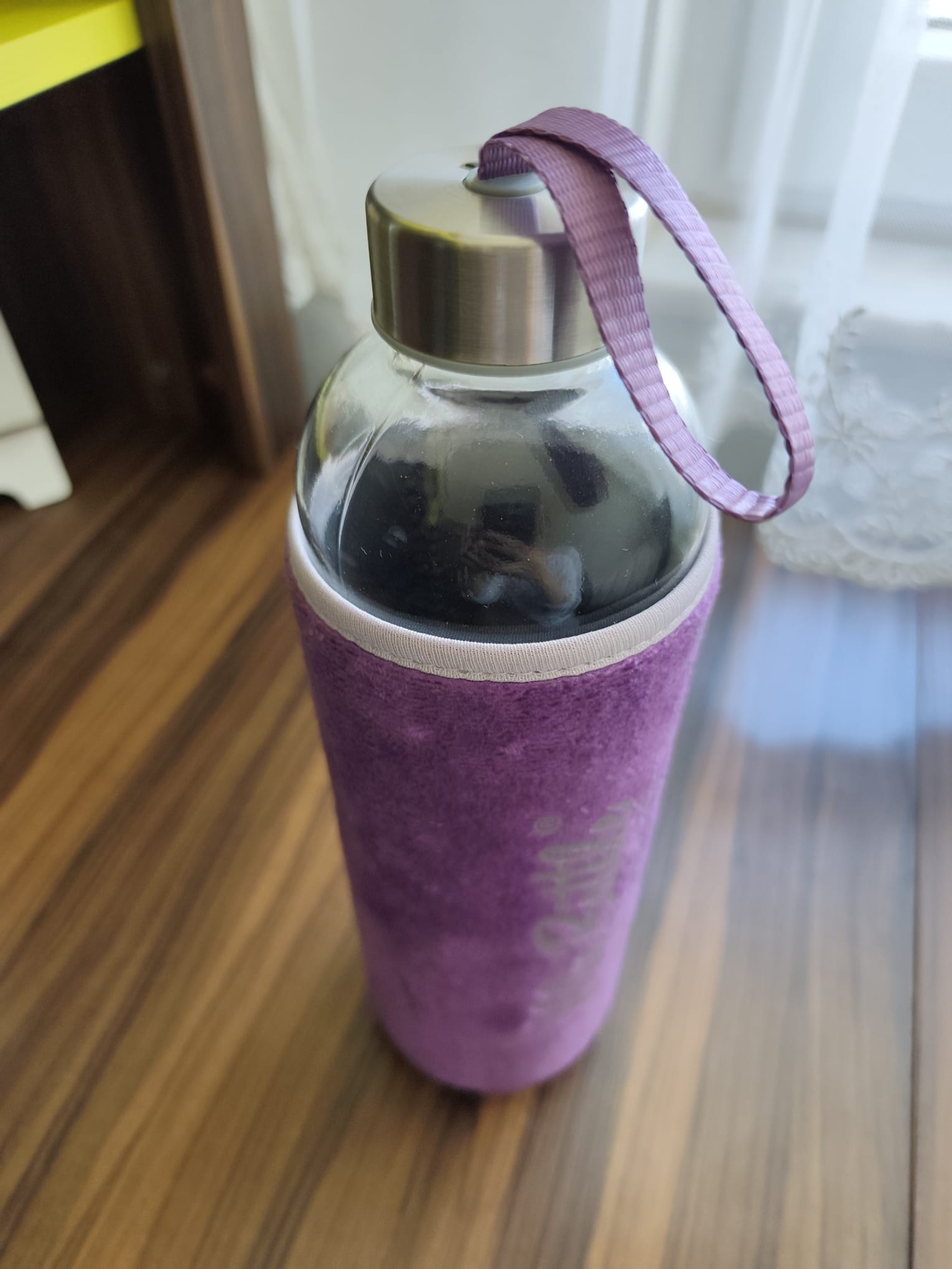su_sisesi: (277, 88, 812, 1123)
